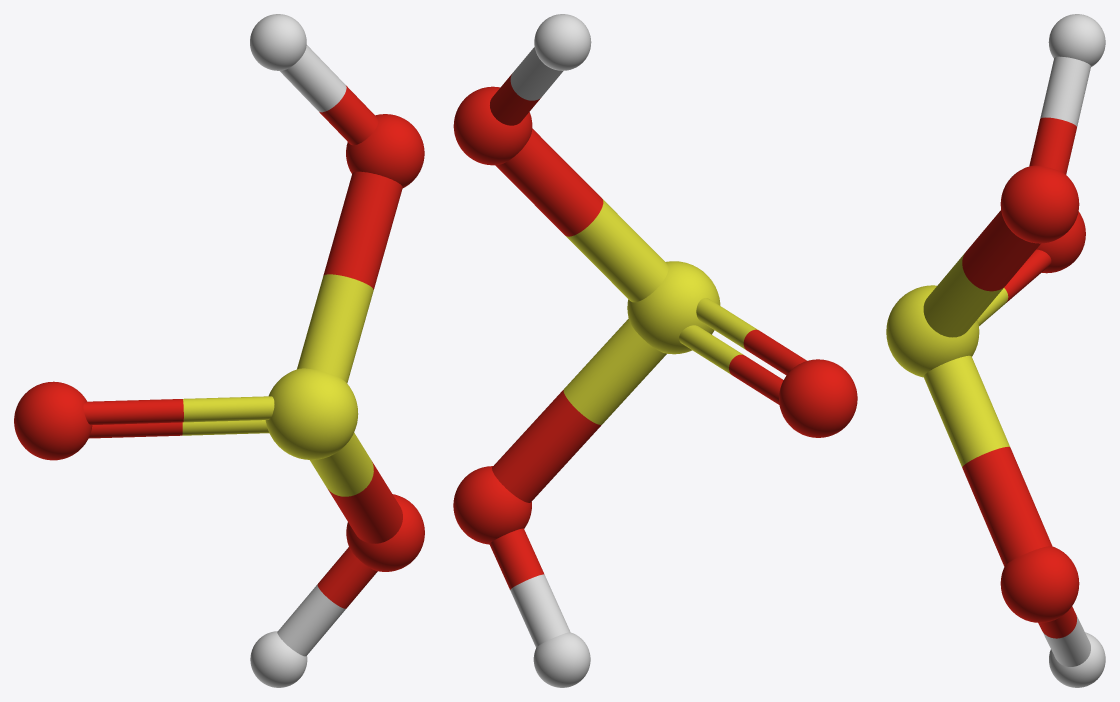
The picture shows the model from 3 angles, left to right: view 1: azimuth 30°, elevation 25°; view 2: azimuth 150°, elevation 25°; view 3: azimuth 270°, elevation 25°; orthographic projection.
Bounding box in the file's own units: 2.66 × 4.28 × 1.27.
